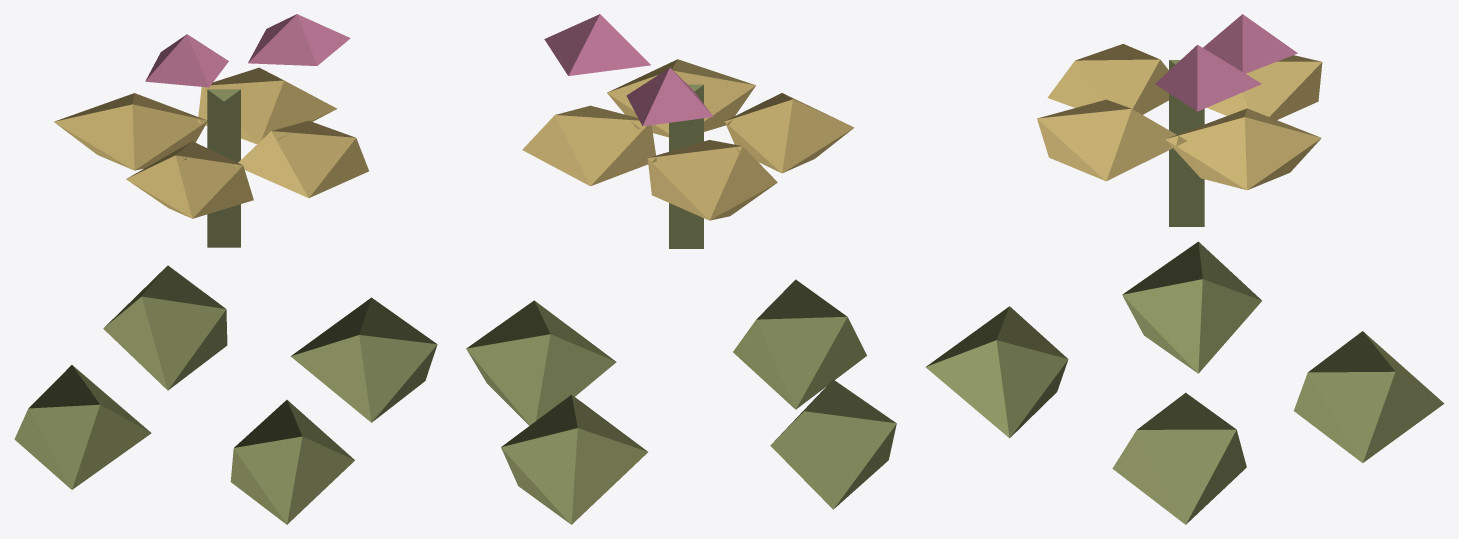
File: water.trop.lotus__autumn.glb
The picture shows the model from 3 angles, left to right: view 1: azimuth 30°, elevation 25°; view 2: azimuth 150°, elevation 25°; view 3: azimuth 270°, elevation 25°; orthographic projection. The views are drawn at different scales.
Parts seen in each view (by area): view 1: water.trop.lotus__autumn; view 2: water.trop.lotus__autumn; view 3: water.trop.lotus__autumn.
Boxes of the visible parts, bbox=[...] form: water.trop.lotus__autumn: bbox=[14, 14, 437, 524]; water.trop.lotus__autumn: bbox=[466, 14, 896, 524]; water.trop.lotus__autumn: bbox=[925, 14, 1444, 524].
Bounding box in the file's own units: 1.09 × 1.06 × 1.12.
